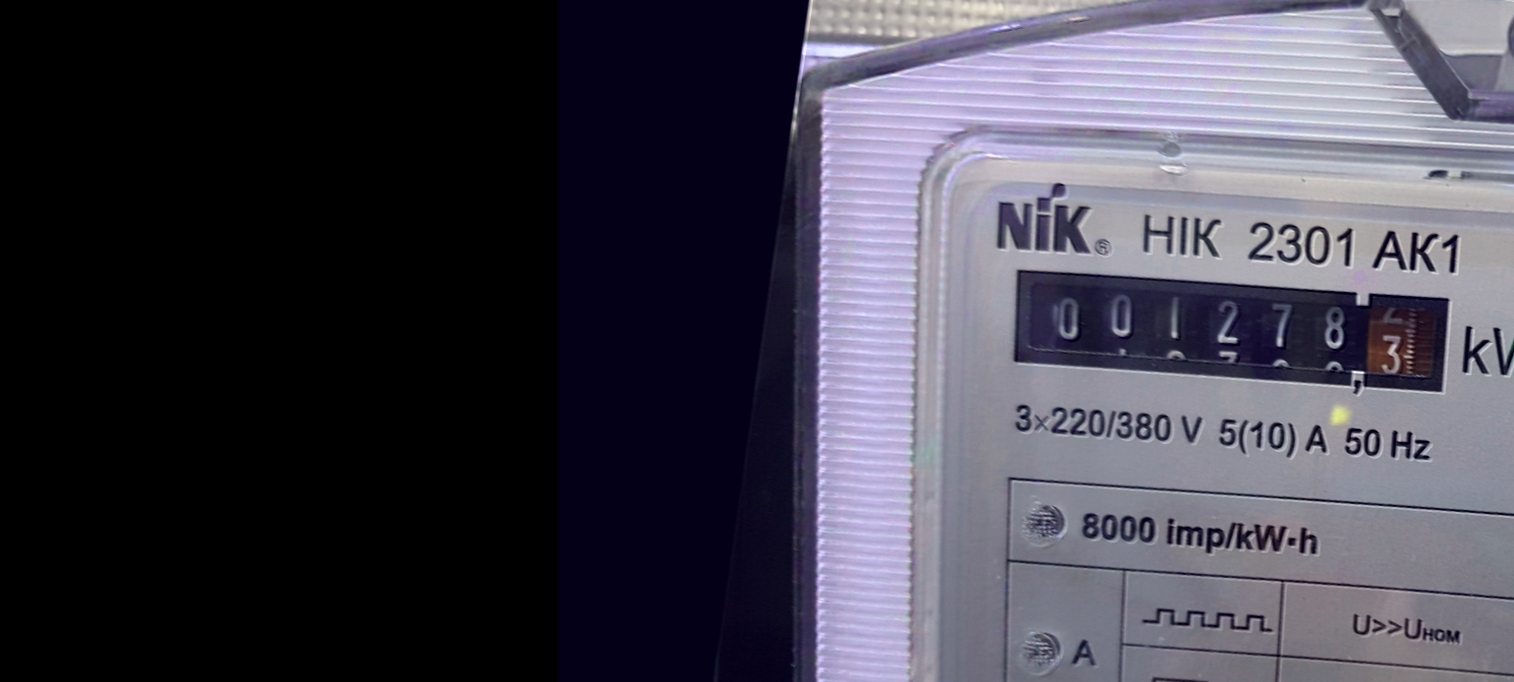0: (1054, 293, 1087, 344), (1106, 291, 1138, 341)
1: (1164, 293, 1189, 342)
2: (1213, 298, 1246, 348), (1381, 305, 1407, 327)
3: (1376, 332, 1408, 379)
7: (1266, 301, 1294, 350)
8: (1321, 305, 1351, 352)
screen: (990, 225, 1475, 437)
